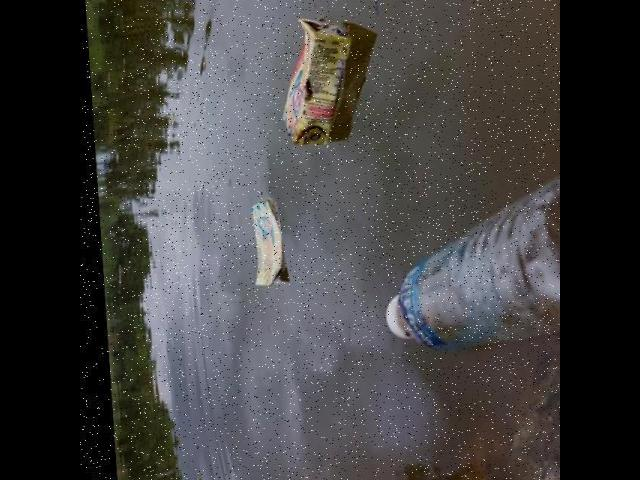Bottle: (386, 173, 560, 349)
Box: (278, 14, 352, 149), (248, 196, 286, 289)
